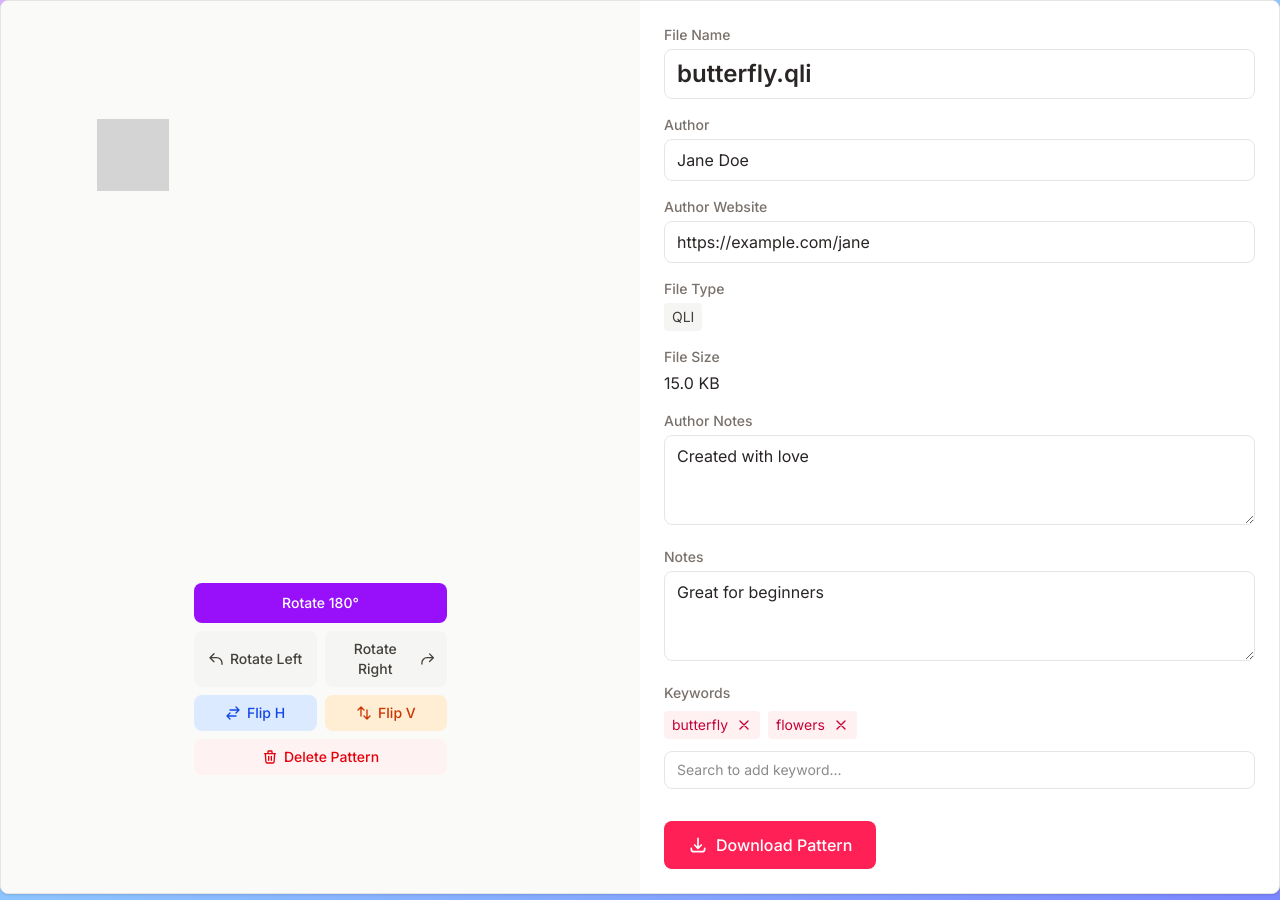
PatternDetailClient › Admin mode - Keywords › filters keywords based on search input
The width and height of the screenshot is (1280, 900).
Type "geo" into the field with placeholder "Search to add keyword...".
click(960, 770); type("geo")  # box x1=664 y1=751 x2=1255 y2=789
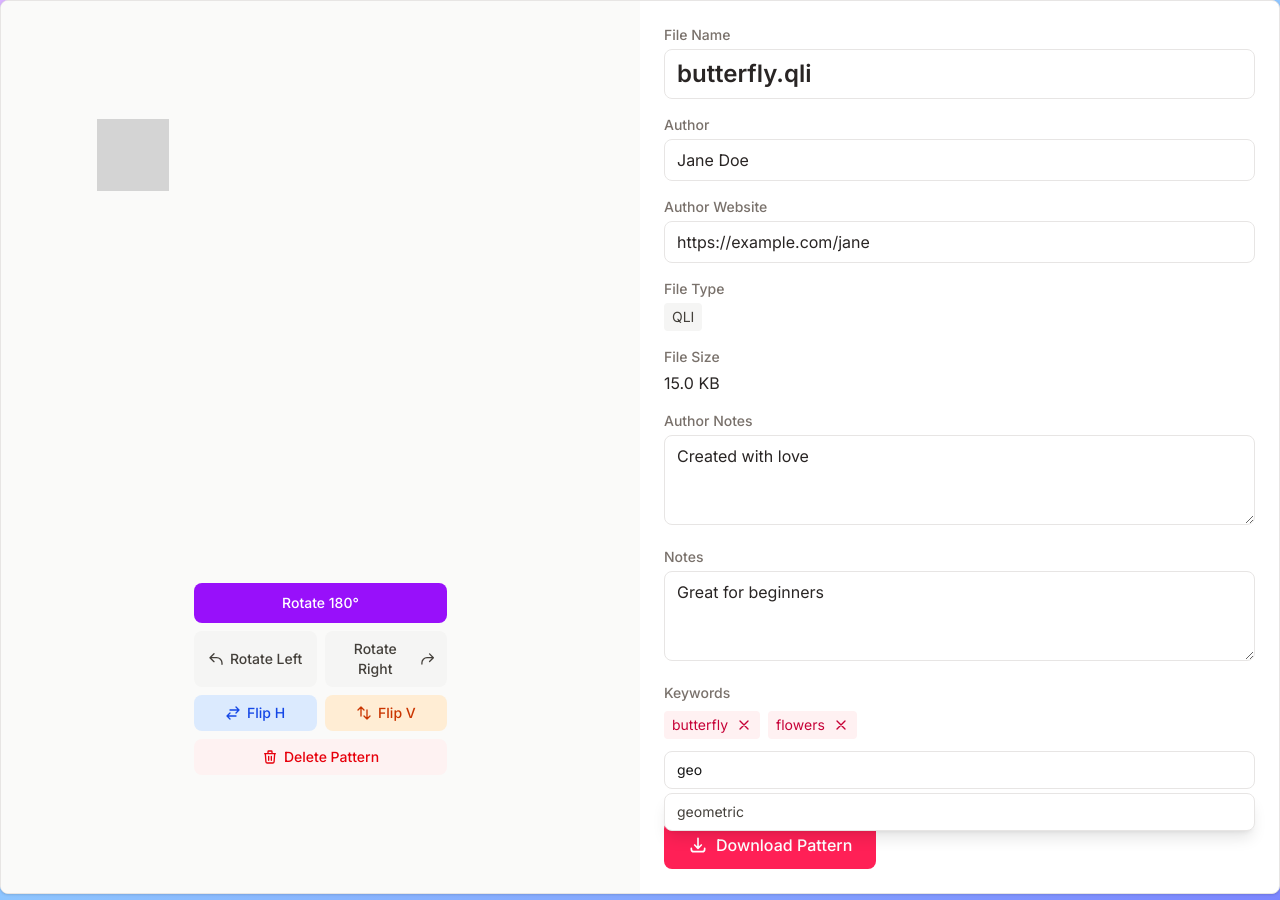
expect the button "geometric" is shown: met, box x1=665 y1=794 x2=1254 y2=830
expect the button "swirls" is gone: met
